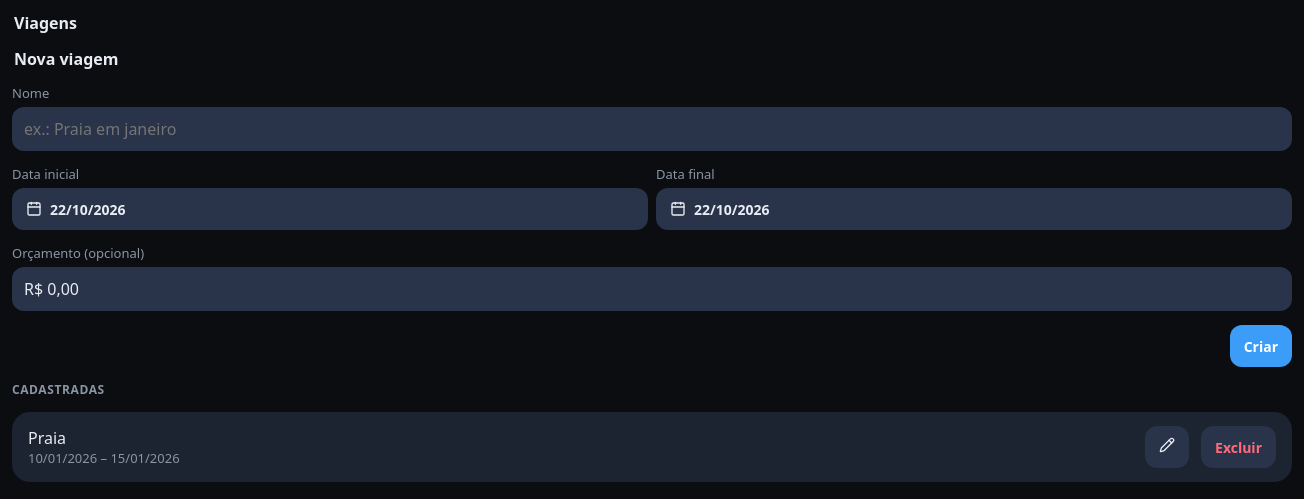
Scenario: edita uma viagem existente
The image size is (1304, 499).
Click the button named "Editar": (1167, 447) [1145, 426, 1189, 468]
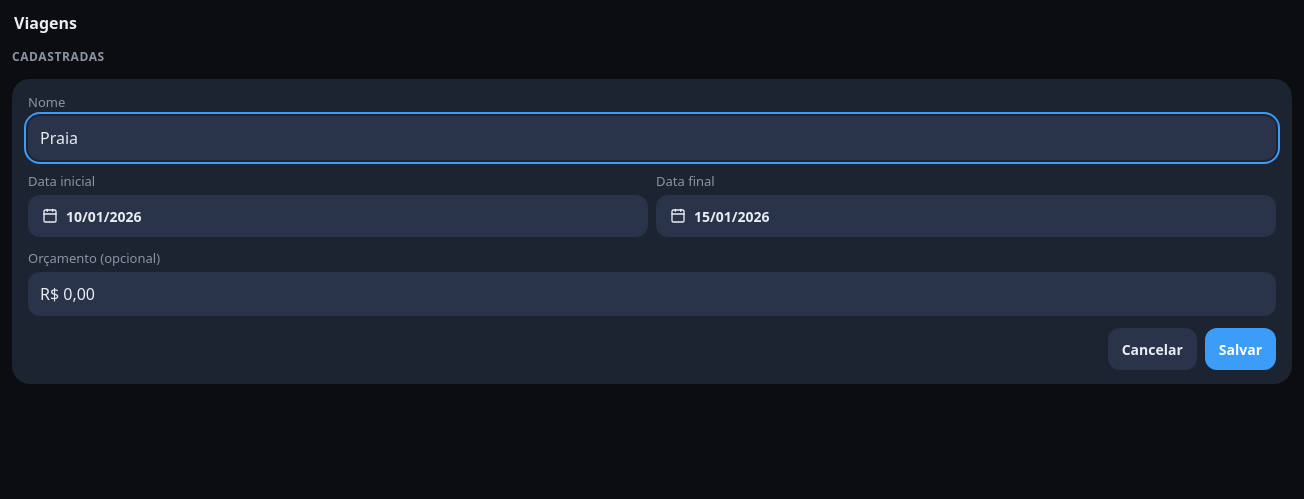
Replace the text in the field labelled "Nome" with "Praia em família": (652, 138) [28, 116, 1276, 160]
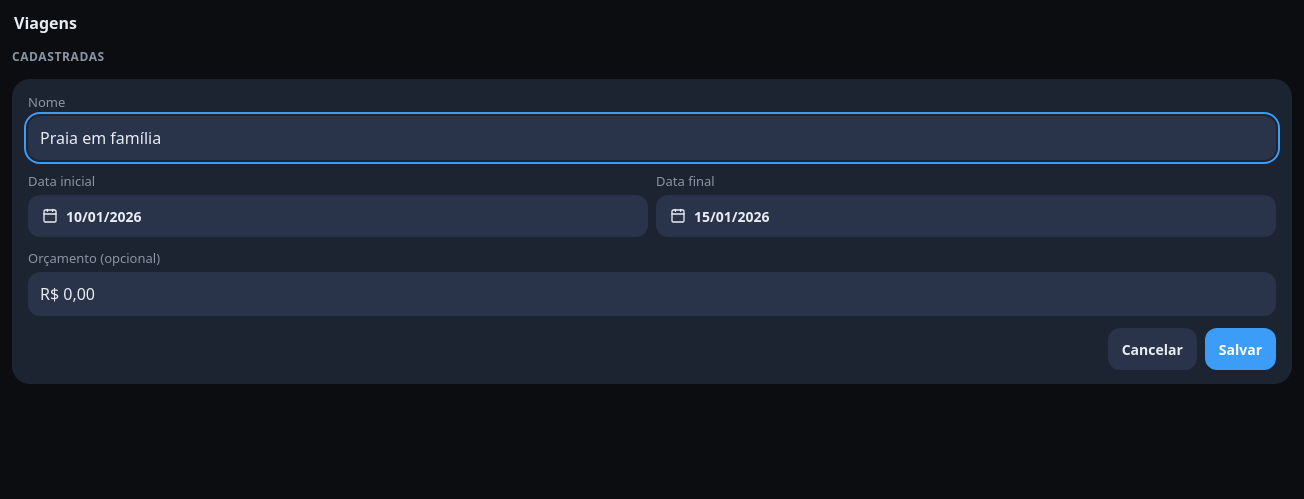
Click the button "Salvar": (1240, 349) [1205, 328, 1276, 370]
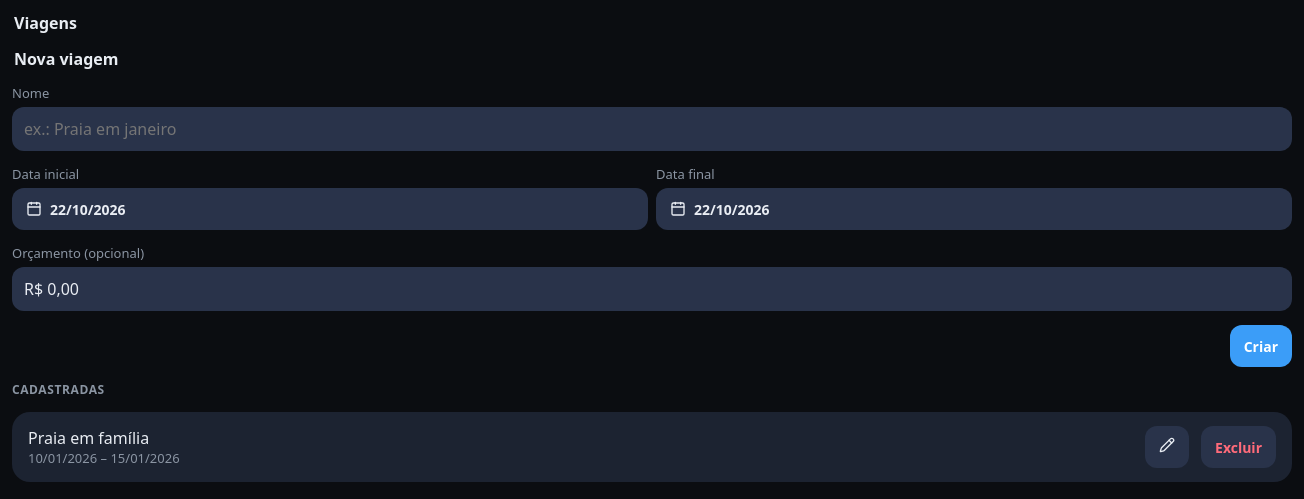
Expected: the text "Praia em família" is shown, [28, 427, 149, 449]
